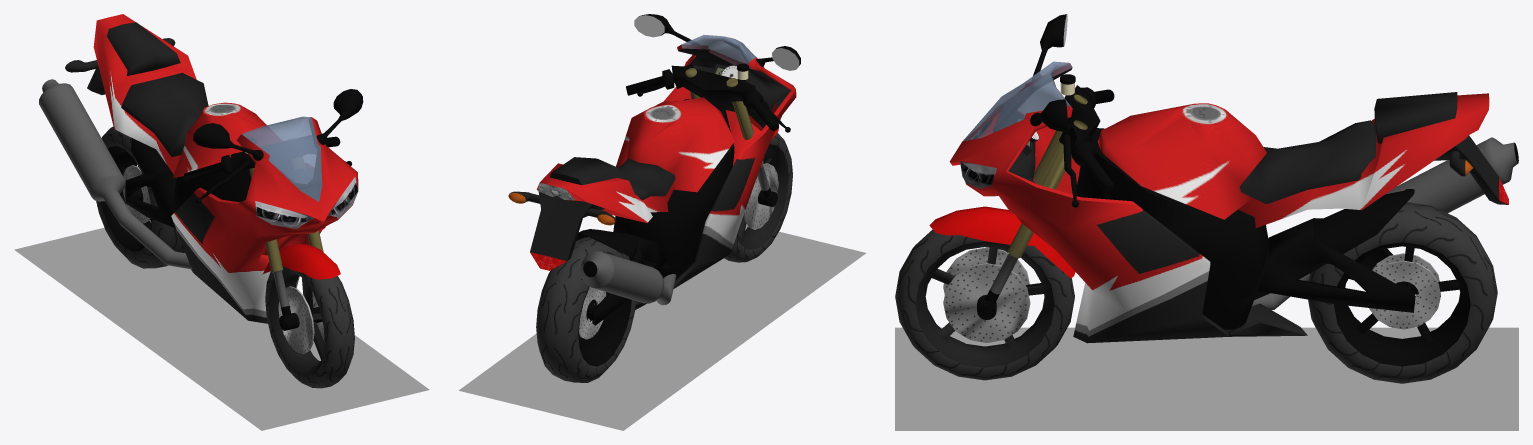
The model's file is bike.obj.a8fb4c1d.glb.
3 renders of one model, left to right at view 1: azimuth 30°, elevation 25°; view 2: azimuth 150°, elevation 25°; view 3: azimuth 270°, elevation 25°, orthographic. The views are drawn at different scales.
Parts seen in each view (by area): view 1: Asset3DLoader.sceneRoot; view 2: Asset3DLoader.sceneRoot; view 3: Asset3DLoader.sceneRoot.
Boxes of the visible parts, left/top/right/bottom form: Asset3DLoader.sceneRoot: left=14, top=14, right=429, bottom=430; Asset3DLoader.sceneRoot: left=459, top=14, right=865, bottom=430; Asset3DLoader.sceneRoot: left=895, top=14, right=1518, bottom=430.
Bounding box in the file's own units: 79.69 × 115 × 203.
Materials: 18 (9 with a texture image).
